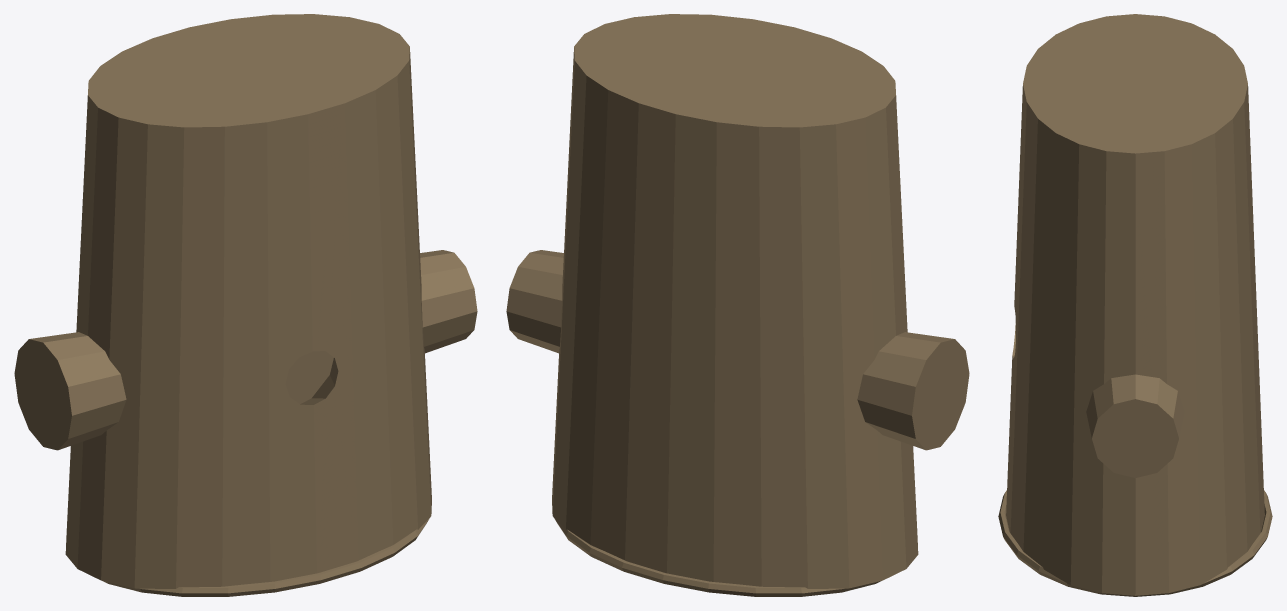
Rendered from cloth_tunic.fbx.
3 views of the same model, side by side, from view 1: azimuth 30°, elevation 25°; view 2: azimuth 150°, elevation 25°; view 3: azimuth 270°, elevation 25° (orthographic). The views are drawn at different scales.
Visible parts, largest first — view 1: cloth_tunic; view 2: cloth_tunic; view 3: cloth_tunic.
Boxes of the visible parts, x1=… form: cloth_tunic: x1=14, y1=14, x2=477, y2=596; cloth_tunic: x1=506, y1=14, x2=969, y2=596; cloth_tunic: x1=998, y1=14, x2=1272, y2=596.
Bounding box in the file's own units: 0.66 × 0.7069 × 0.402.
